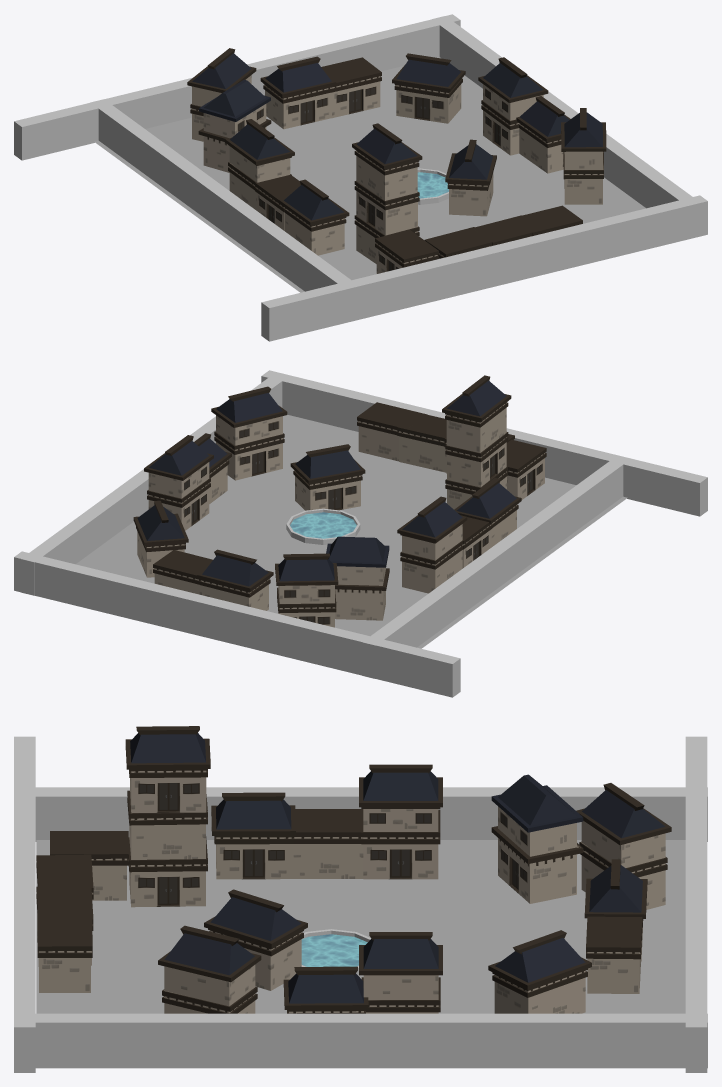
File: Large_Town.fbx
3 views of the same model, one above another, from view 1: azimuth 30°, elevation 25°; view 2: azimuth 150°, elevation 25°; view 3: azimuth 270°, elevation 25° (orthographic). The views are drawn at different scales.
Visible parts, largest first — view 1: polySurface54, Floor_Comb, polySurface47; view 2: polySurface54, Floor_Comb; view 3: polySurface54, Floor_Comb, polySurface47.
Part boxes in pixels (x1=…): polySurface54: x1=14, y1=14, x2=707, y2=341; Floor_Comb: x1=94, y1=57, x2=645, y2=292; polySurface47: x1=424, y1=227, x2=494, y2=258; polySurface54: x1=14, y1=370, x2=707, y2=697; Floor_Comb: x1=76, y1=414, x2=627, y2=648; polySurface54: x1=14, y1=726, x2=707, y2=1072; Floor_Comb: x1=36, y1=840, x2=685, y2=1013; polySurface47: x1=36, y1=854, x2=93, y2=899.
Size of the model in its own units: 30.27 by 8.24 by 30.53.
